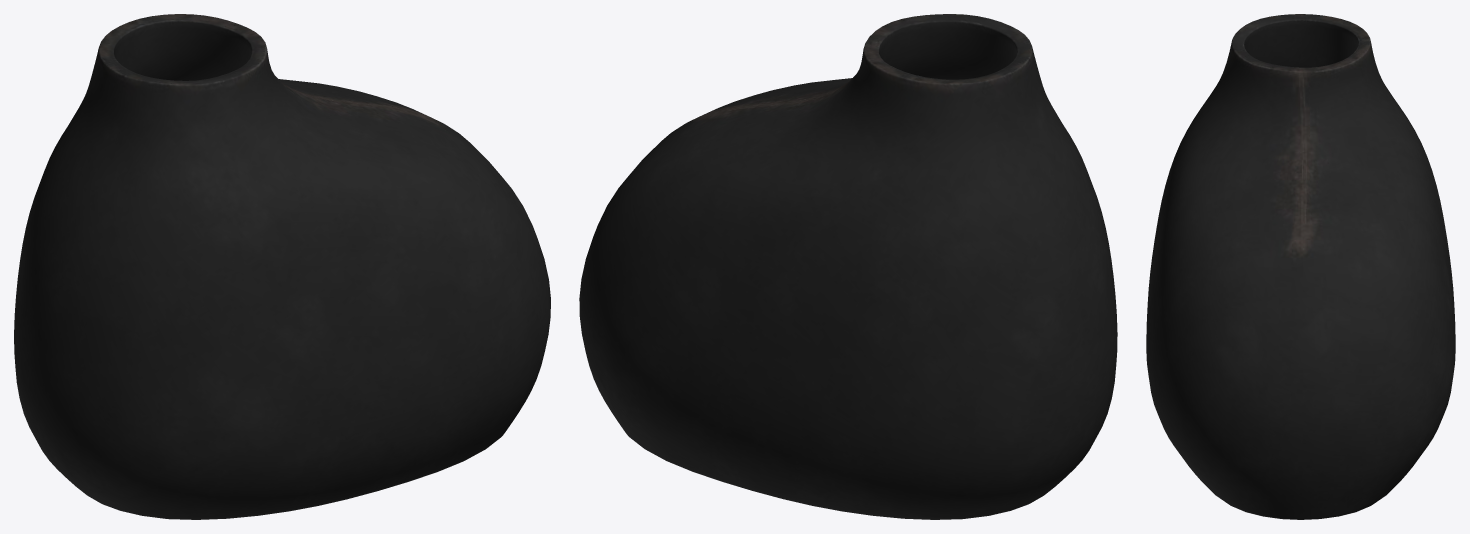
Rendered from DecorItemVase.glb.
3 views of the same model, side by side, from view 1: azimuth 30°, elevation 25°; view 2: azimuth 150°, elevation 25°; view 3: azimuth 270°, elevation 25° (orthographic). The views are drawn at different scales.
Parts seen in each view (by area): view 1: ZAKI1122_170203012NBLK_Vase_001; view 2: ZAKI1122_170203012NBLK_Vase_001; view 3: ZAKI1122_170203012NBLK_Vase_001.
Part boxes in pixels (<box>): ZAKI1122_170203012NBLK_Vase_001: <box>14,14,550,519</box>; ZAKI1122_170203012NBLK_Vase_001: <box>579,14,1117,519</box>; ZAKI1122_170203012NBLK_Vase_001: <box>1146,14,1455,519</box>.
Bounding box in the file's own units: 0.1228 × 0.1027 × 0.0813.
Materials: 1 (1 with a texture image).
